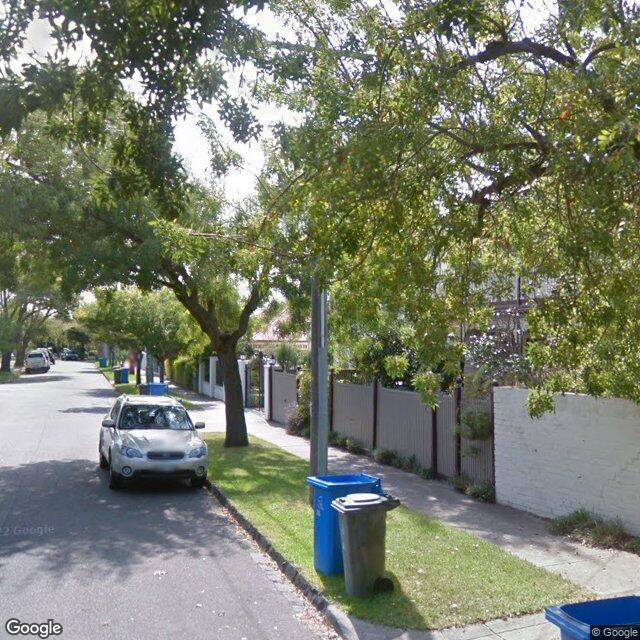timber-pole: (310, 264, 328, 506)
